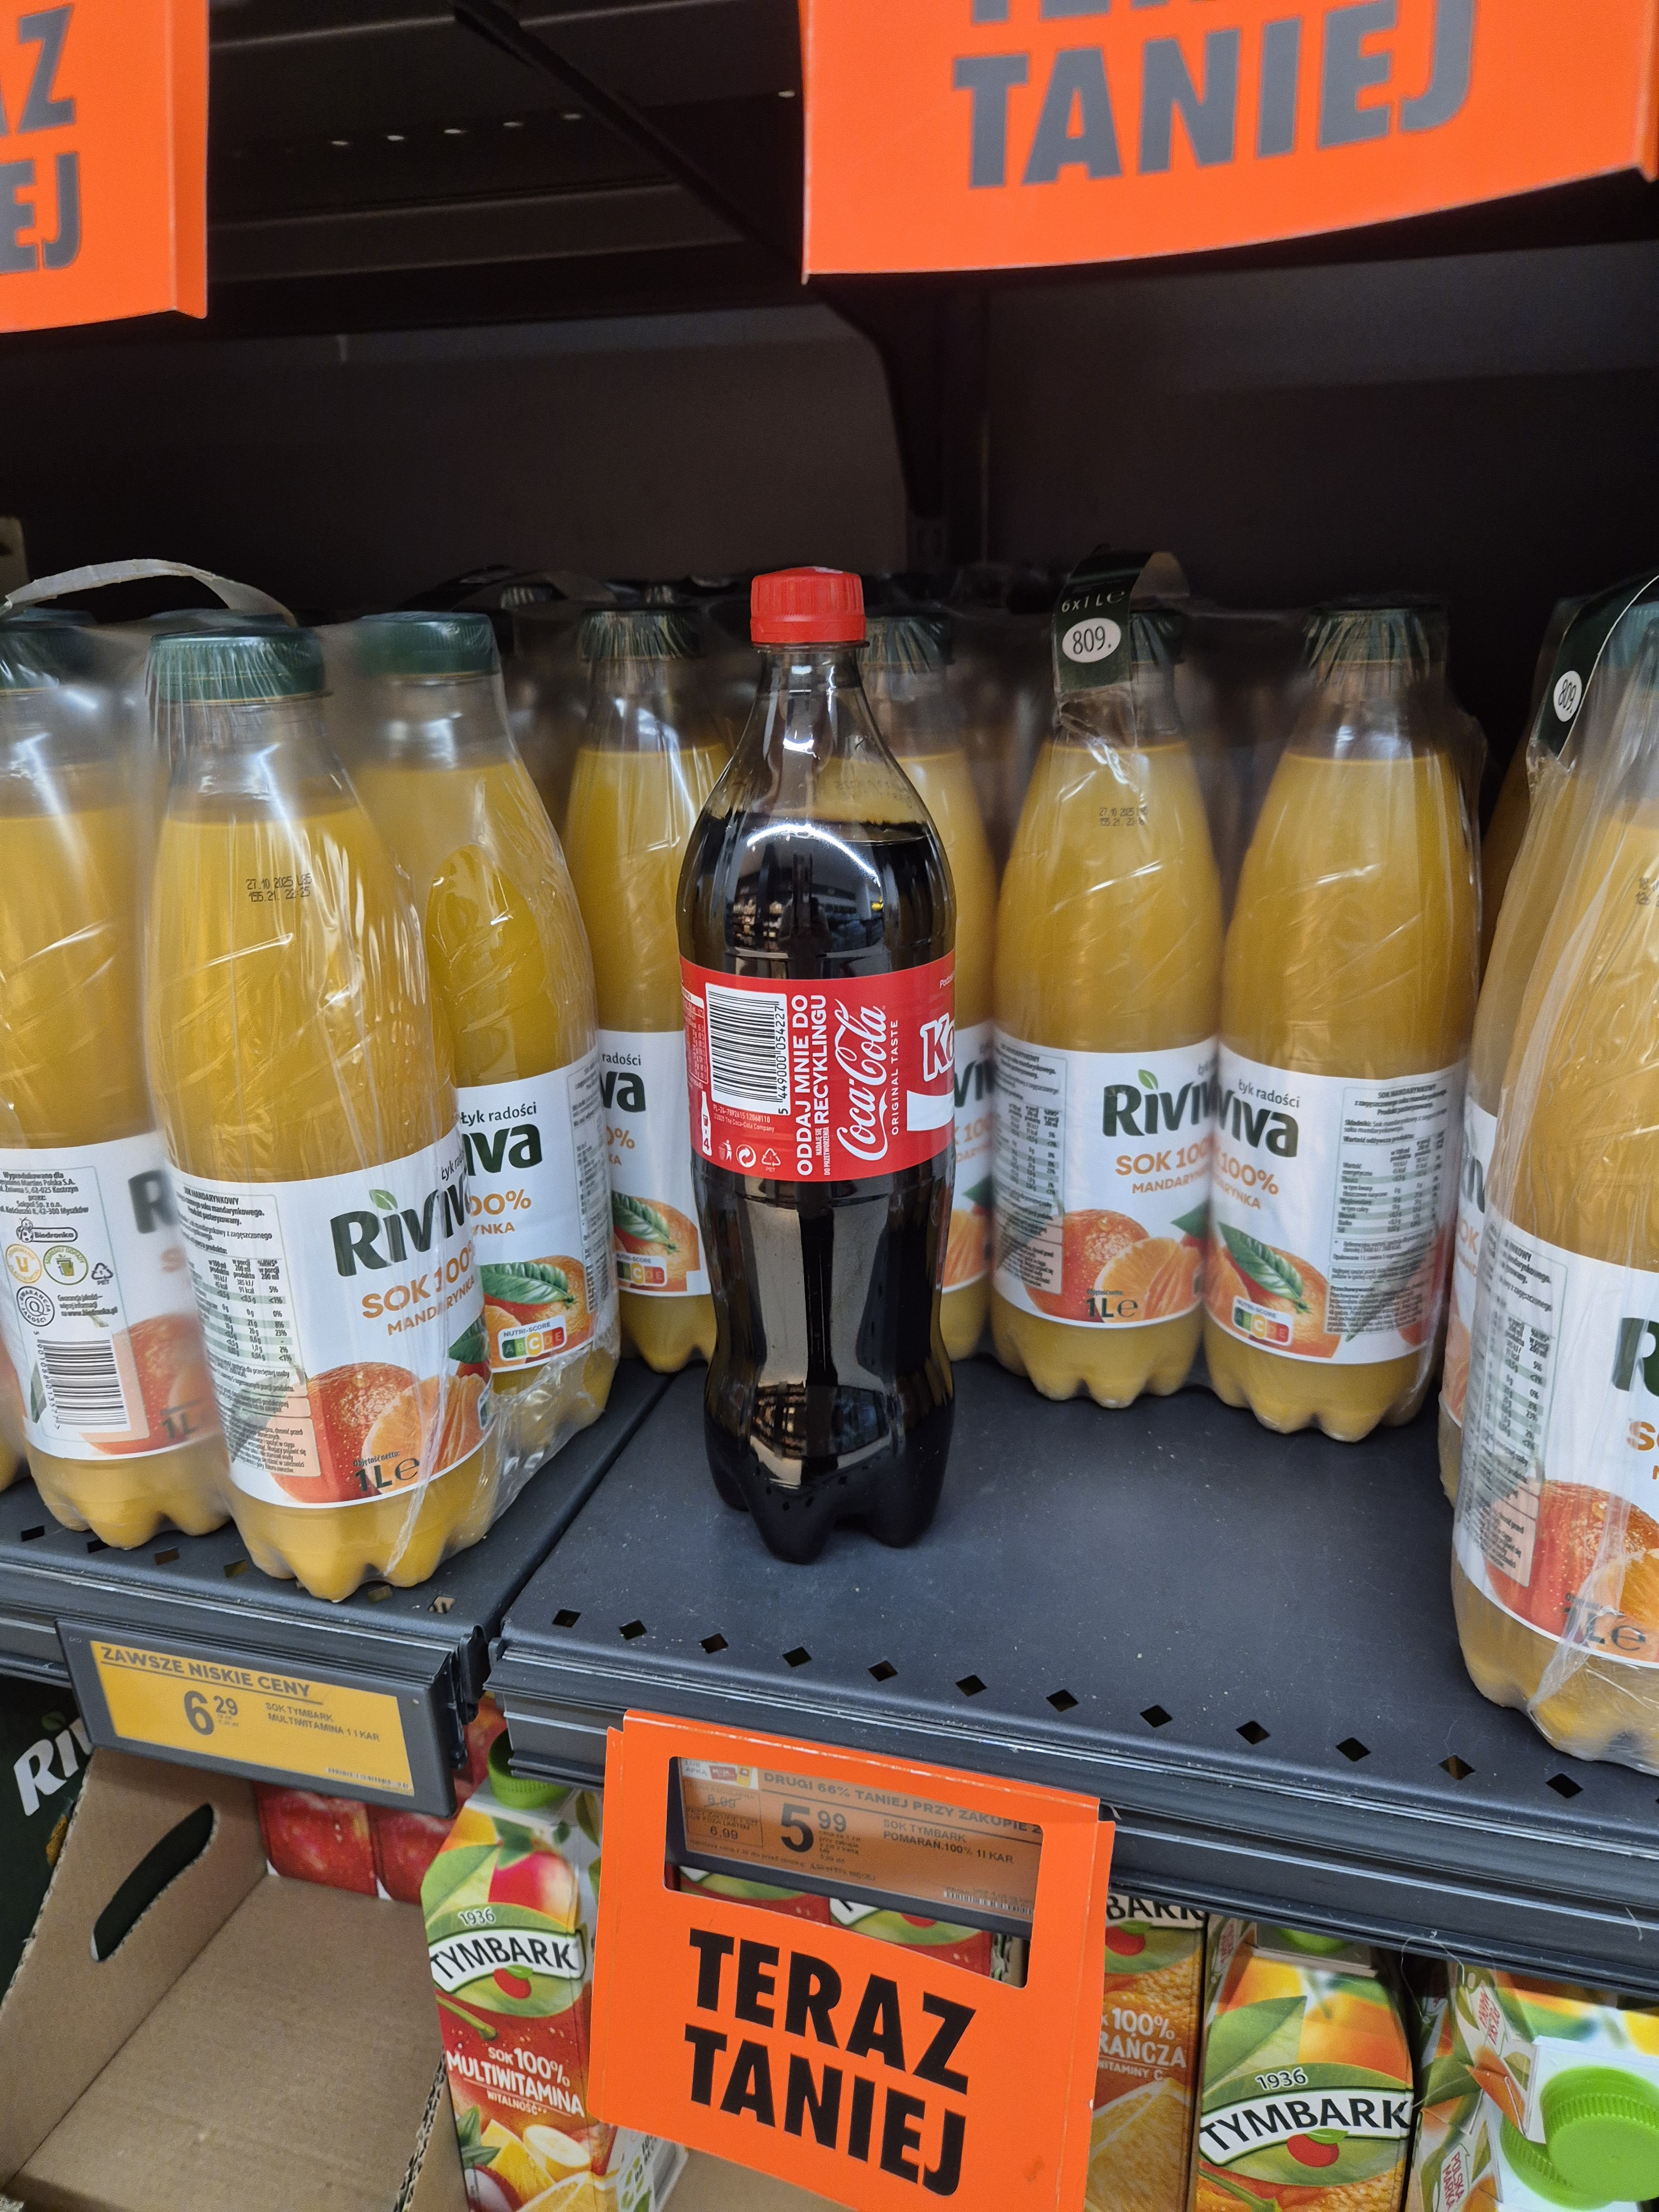Coca Cola: (667, 547, 1016, 1566)
